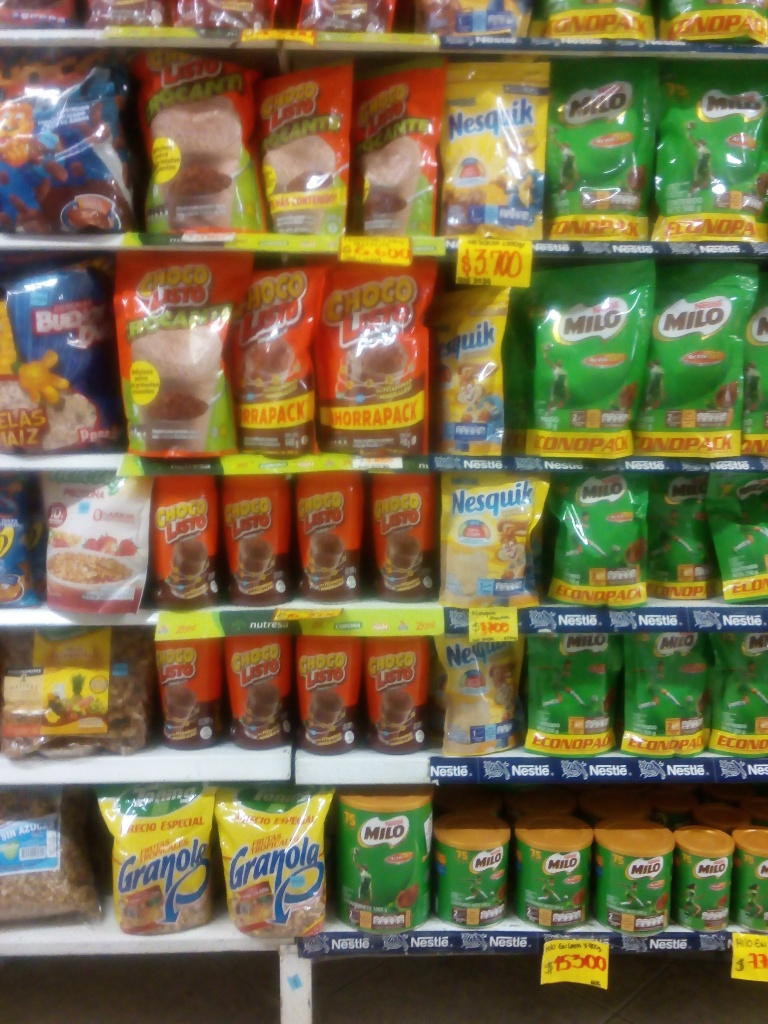COL0170102DYP25000: (350, 59, 444, 233)
COL0170102DYP50000: (107, 248, 250, 463)
COL0170103DYP40000: (236, 268, 332, 455)
COL0170103TRR30000: (147, 474, 221, 610)
COL0170203DYP25000: (556, 470, 657, 592)
COL0170203DYP50000: (520, 267, 650, 462)
COL0170203LAT20000: (677, 821, 732, 929)
COL0170203LAT40000: (431, 809, 514, 927)
COL0170303DYP20000: (438, 52, 550, 239)
COL0170306DYP20000: (441, 285, 523, 459)
